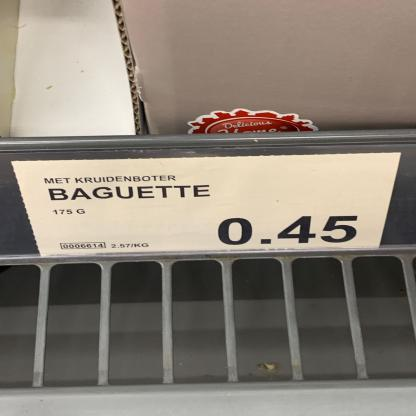prtg: (11, 152, 403, 258)
